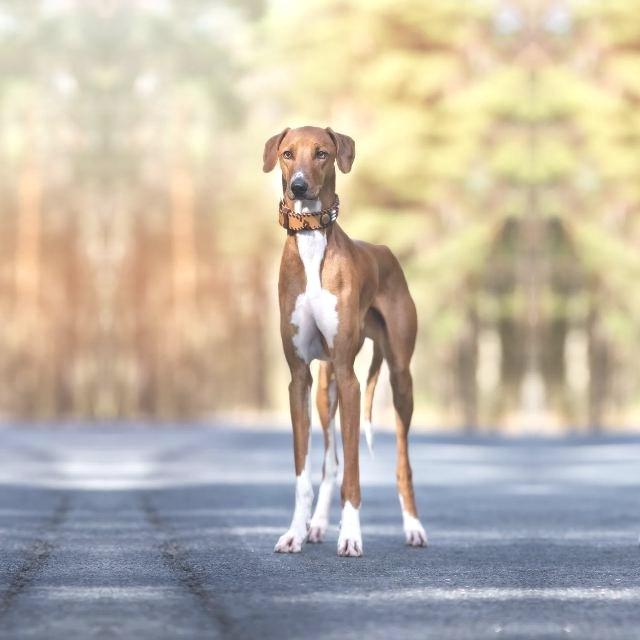dog: (231, 100, 454, 578), (615, 100, 640, 578)
